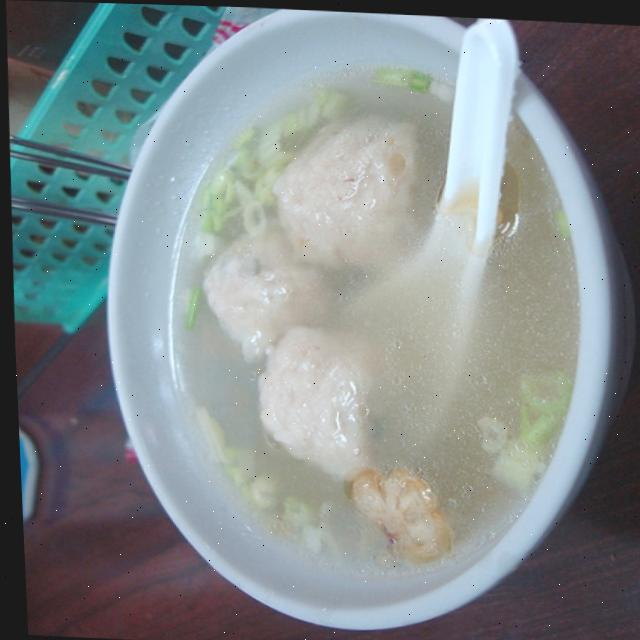熟制海鲜: (61, 1, 630, 639)
